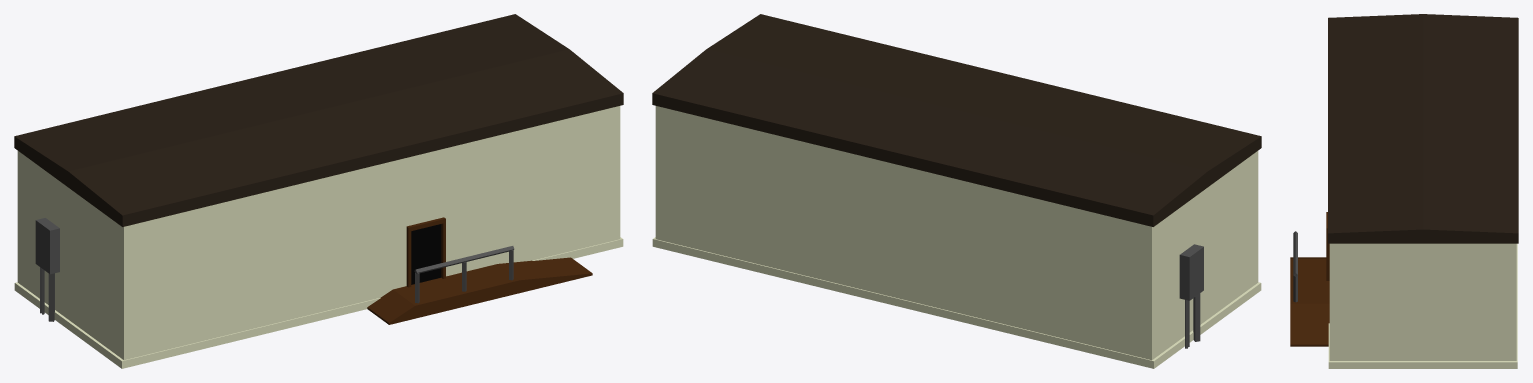
Rendered from JanitorBuilding.fbx.
3 renders of one model, left to right at view 1: azimuth 30°, elevation 25°; view 2: azimuth 150°, elevation 25°; view 3: azimuth 270°, elevation 25°, orthographic. The views are drawn at different scales.
Visible parts, largest first — view 1: Building, Stair, PowerBox, Rail, Door Frame; view 2: Building, PowerBox; view 3: Building, Stair, Rail, Door Frame.
Part boxes in pixels (x1,y1,x2,y2): Building: [14, 14, 623, 368]; Stair: [367, 257, 592, 324]; PowerBox: [35, 218, 59, 321]; Rail: [414, 246, 514, 303]; Door Frame: [406, 217, 445, 287]; Building: [652, 14, 1261, 368]; PowerBox: [1179, 244, 1203, 348]; Building: [1328, 14, 1518, 368]; Stair: [1290, 257, 1329, 346]; Rail: [1293, 231, 1297, 302]; Door Frame: [1326, 212, 1329, 280].
Size of the model in its own units: 974 by 290 by 430.
